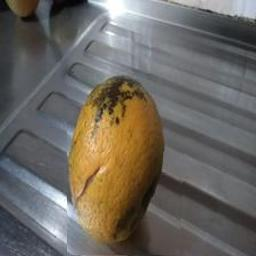Orange Semirotten: (67, 73, 189, 256)
